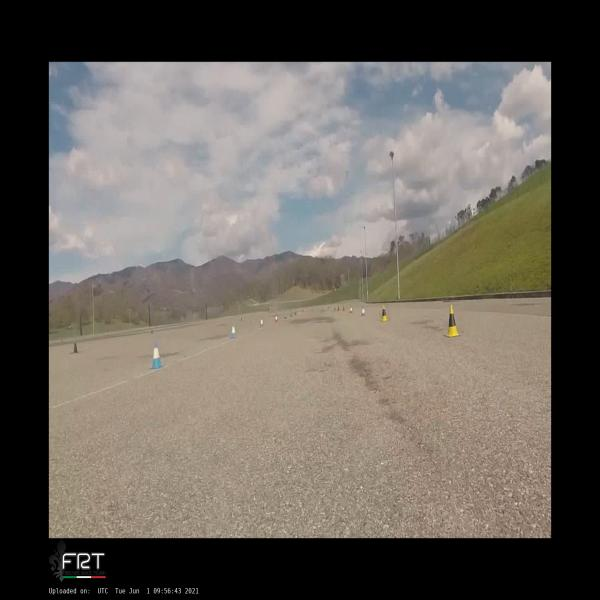blue_cone: (150, 341, 164, 369), (230, 326, 236, 338), (260, 317, 264, 327), (362, 306, 366, 316)
large_orange_cone: (349, 306, 353, 314), (284, 311, 287, 319), (290, 310, 293, 316)
unknown_cone: (73, 341, 78, 353), (274, 314, 278, 322), (240, 316, 243, 323), (342, 305, 345, 311), (338, 305, 340, 311), (294, 310, 296, 315), (334, 305, 336, 310), (151, 330, 153, 334)
yellow_cone: (444, 304, 462, 337), (379, 305, 388, 322)
